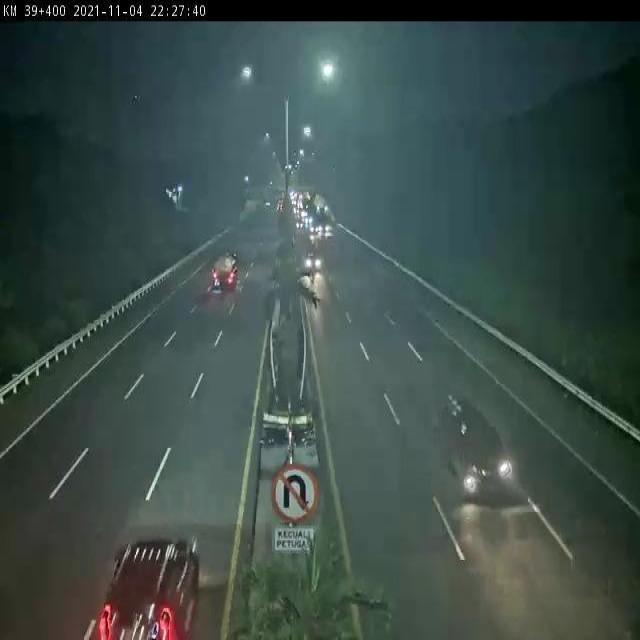ARABA: (99, 538, 198, 640), (434, 392, 516, 504)
TIR: (211, 248, 239, 289)
